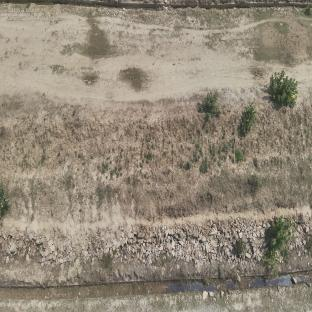rock_toe: (0, 215, 311, 273)
toe_drain: (0, 269, 311, 304)
vegetation: (265, 214, 295, 261), (267, 77, 296, 108), (240, 102, 257, 138), (199, 93, 220, 117)
